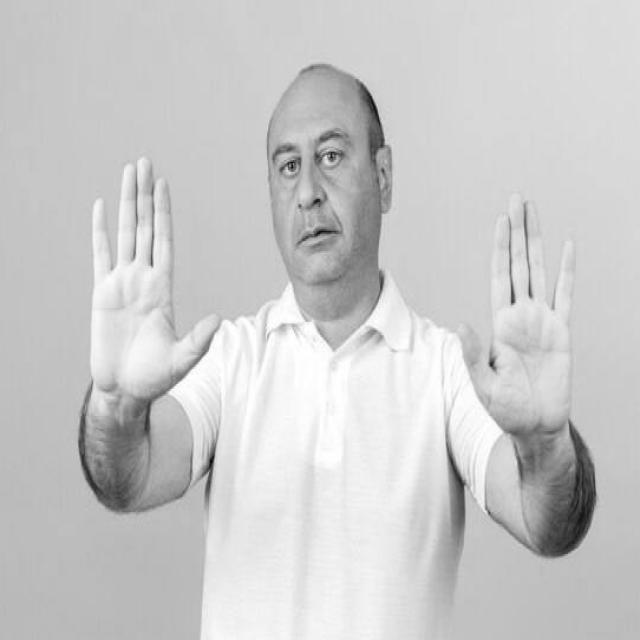stop: (84, 150, 226, 419), (453, 187, 582, 445)
